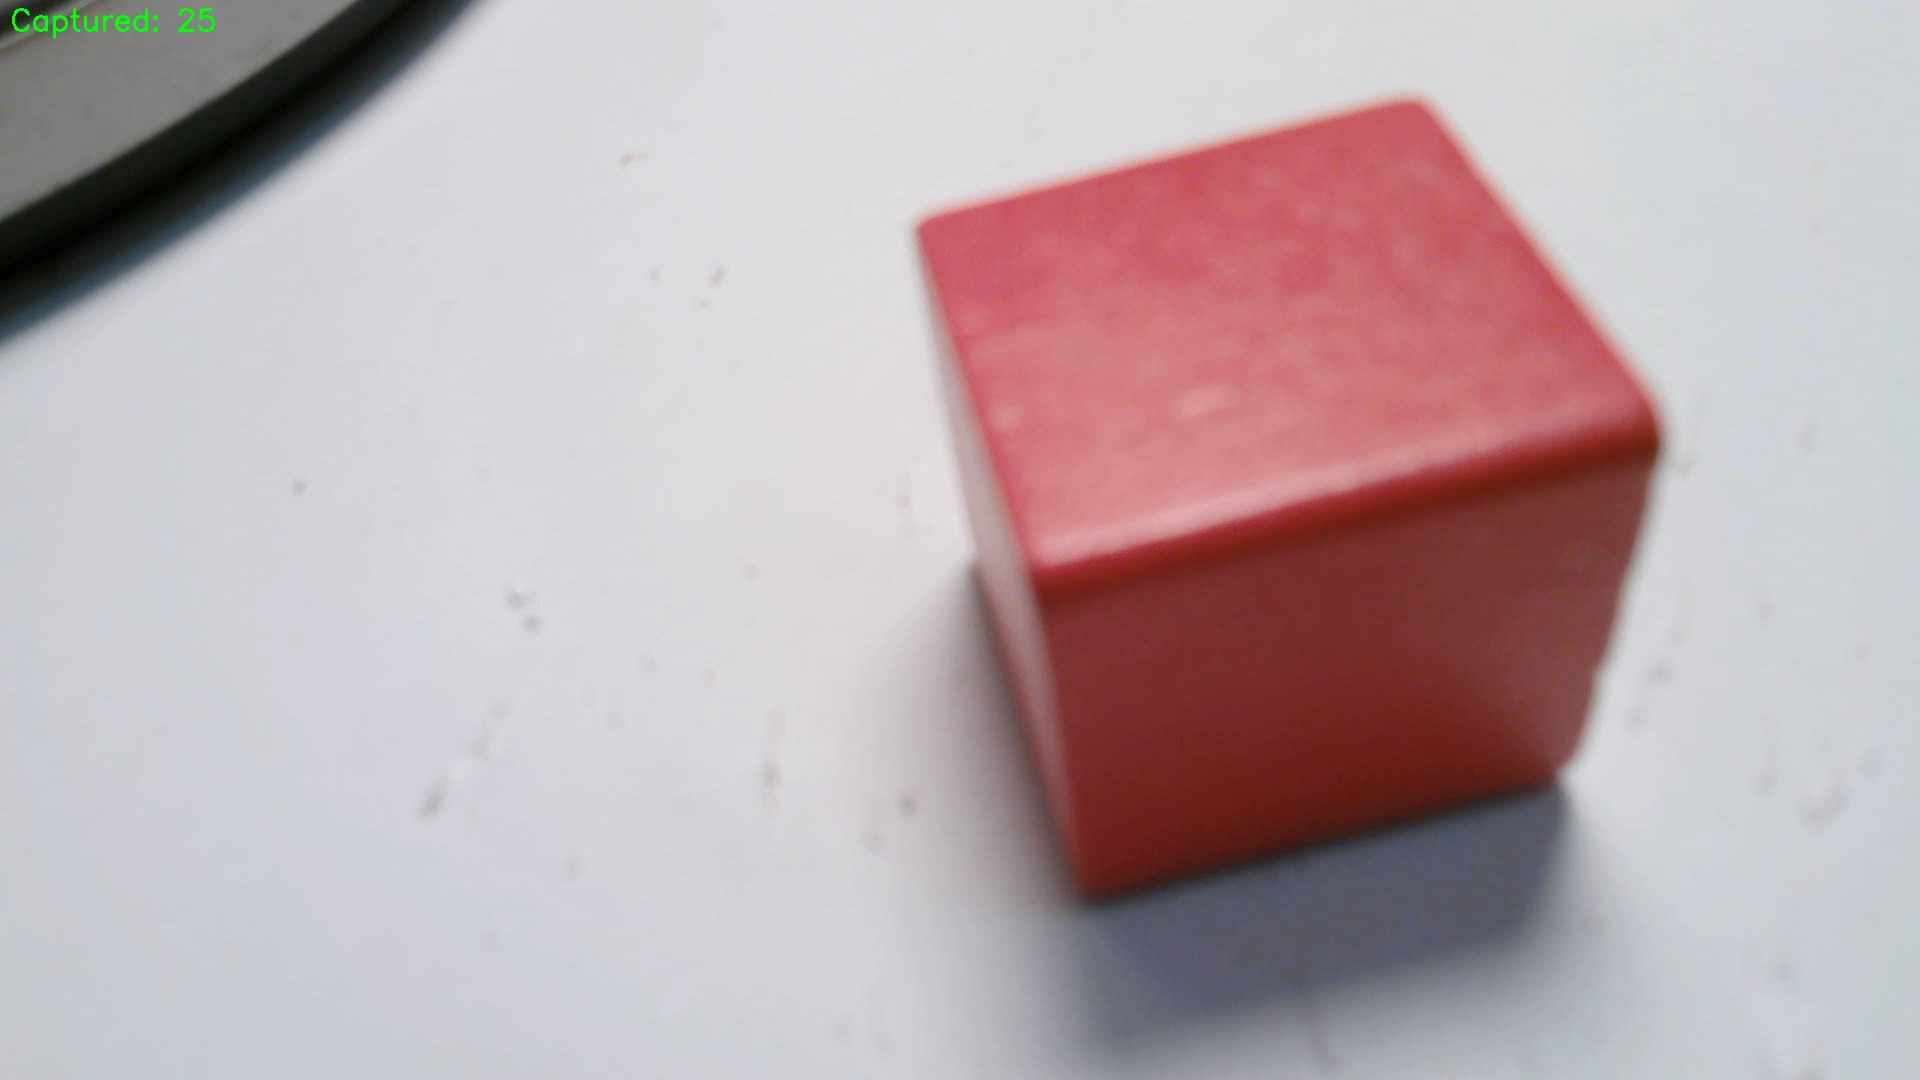red: (911, 96, 1662, 885)
